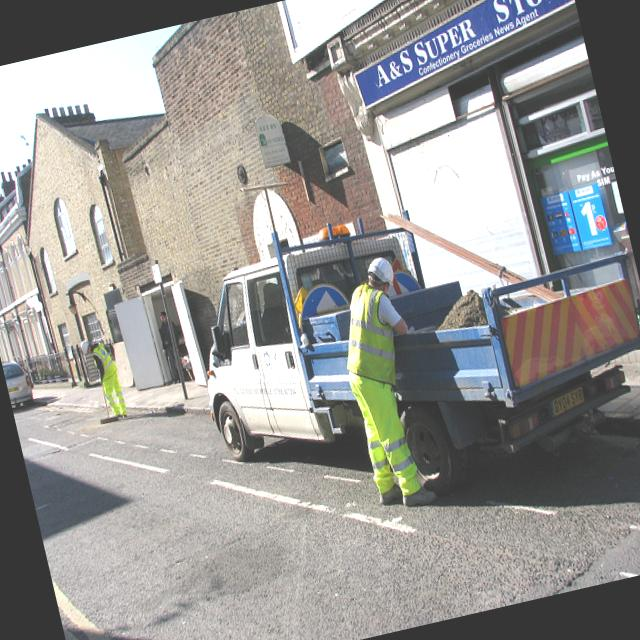Vehicle: (164, 105, 640, 537), (2, 356, 37, 410)
